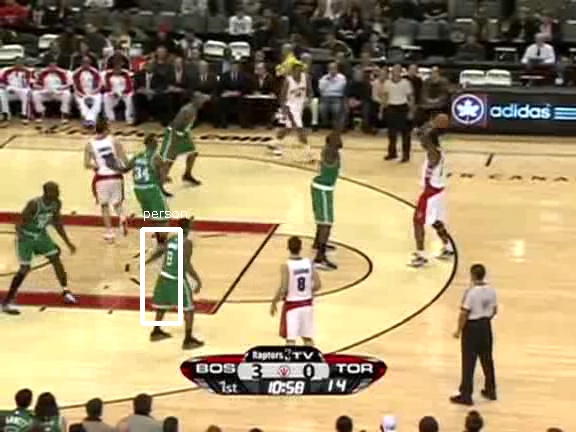person: (158, 234, 192, 315), (157, 234, 191, 315), (159, 234, 193, 315), (158, 233, 192, 314), (158, 235, 192, 316)
target_negative: (221, 58, 432, 257), (102, 345, 513, 395), (239, 109, 558, 151), (445, 172, 475, 355), (280, 138, 386, 149), (434, 397, 482, 417)
